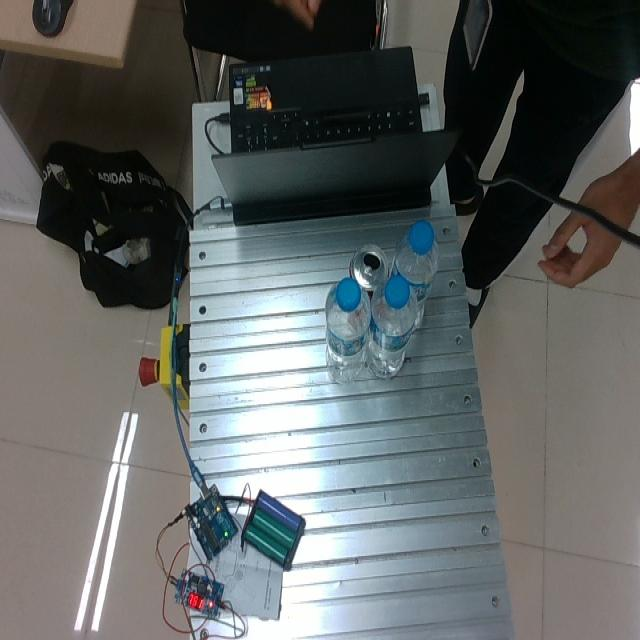coca: (348, 243, 389, 301)
lavie: (366, 275, 418, 377), (390, 222, 439, 330), (323, 278, 371, 382)
